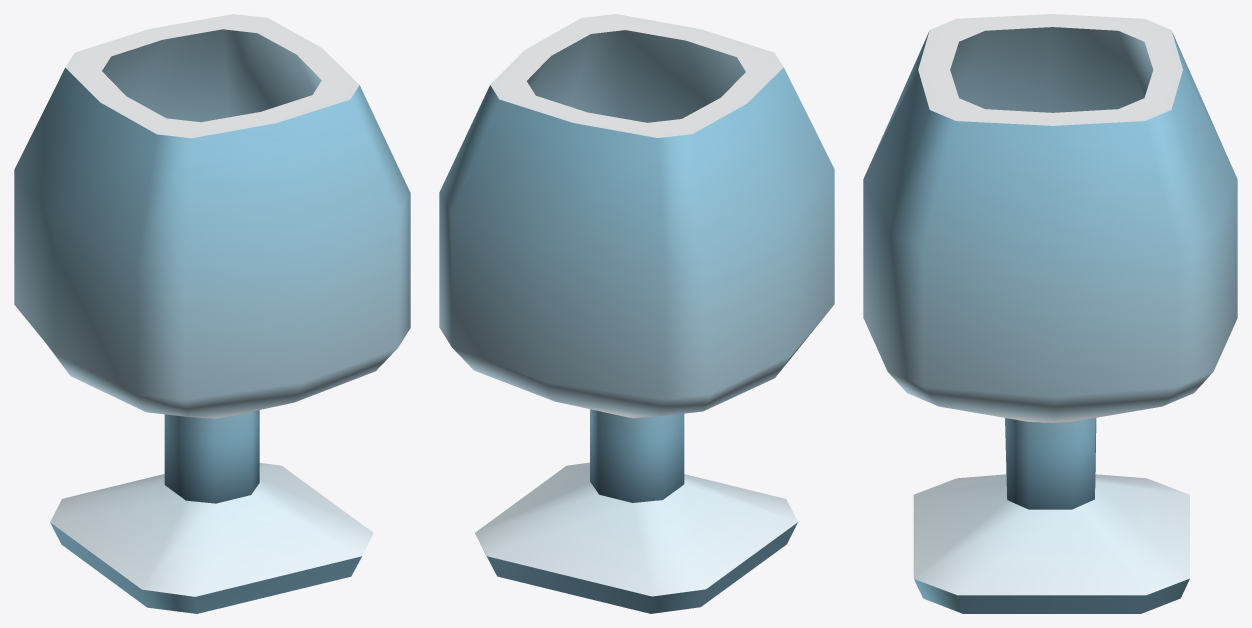
The model's file is glass_wine.fbx.
The picture shows the model from 3 angles, left to right: view 1: azimuth 30°, elevation 25°; view 2: azimuth 150°, elevation 25°; view 3: azimuth 270°, elevation 25°; orthographic projection. The views are drawn at different scales.
Parts seen in each view (by area): view 1: glass_wine; view 2: glass_wine; view 3: glass_wine.
Part boxes in pixels (x1,y1,x2,y2): glass_wine: (14, 14, 410, 613); glass_wine: (439, 14, 834, 613); glass_wine: (863, 14, 1237, 613).
Bounding box in the file's own units: 24.13 × 34.9 × 24.16.
